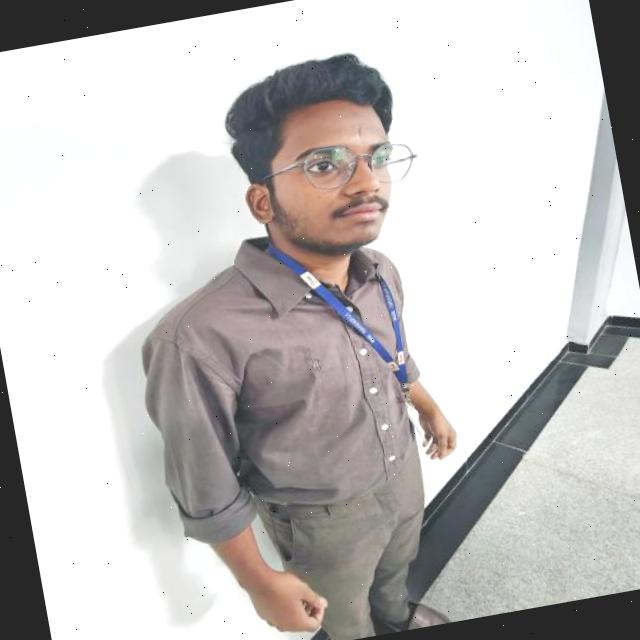Id strap: (266, 242, 407, 388)
